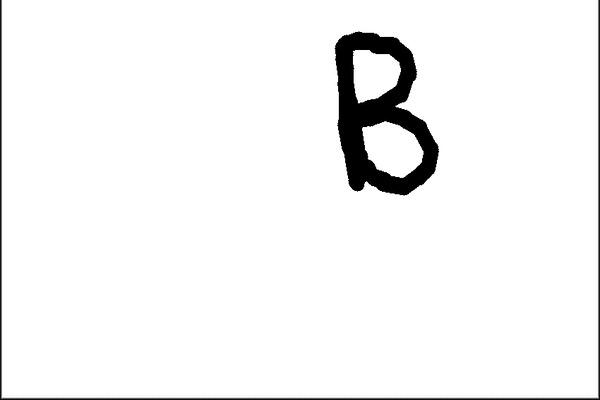B: (325, 18, 449, 207)
